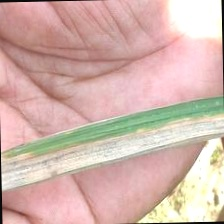Leaf_Blast: (11, 124, 222, 179)
